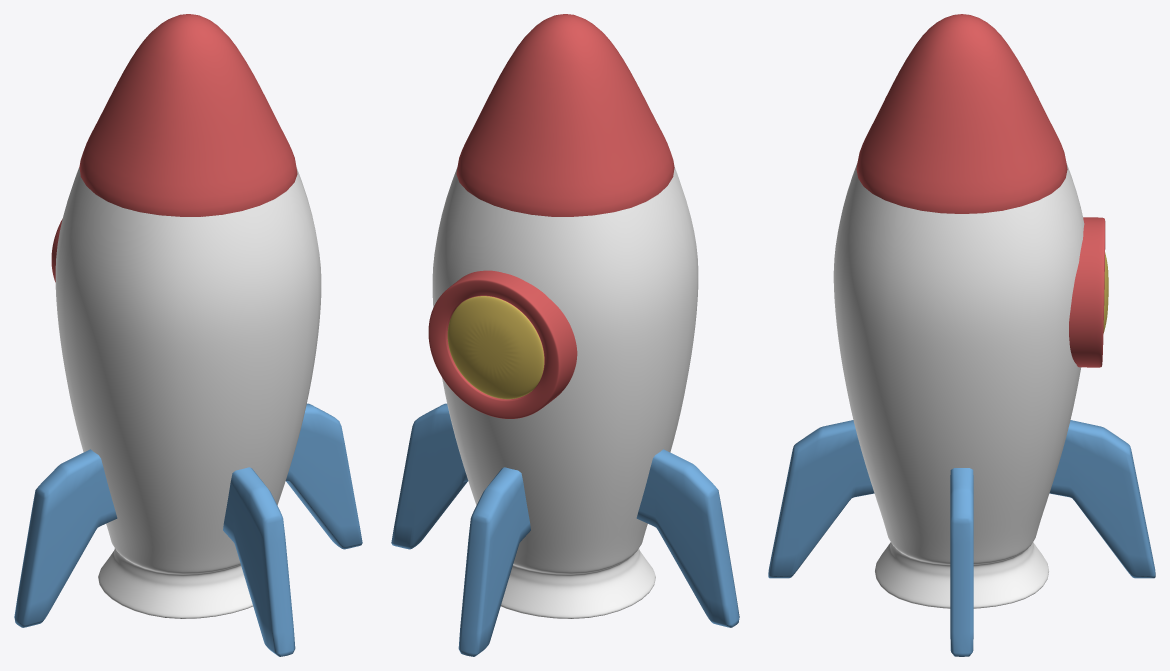
Rendered from Rocket 1.fbx.
The picture shows the model from 3 angles, left to right: view 1: azimuth 30°, elevation 25°; view 2: azimuth 150°, elevation 25°; view 3: azimuth 270°, elevation 25°; orthographic projection.
Parts seen in each view (by area): view 1: Rocket; view 2: Rocket; view 3: Rocket.
Part boxes in pixels (x1,y1,x2,y2): Rocket: (14, 14, 362, 656); Rocket: (391, 14, 739, 656); Rocket: (768, 14, 1155, 656).
Size of the model in its own units: 283 by 450 by 283.
